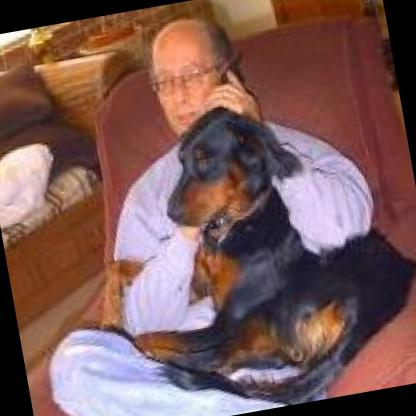Gordon_setter: (88, 69, 416, 416)
